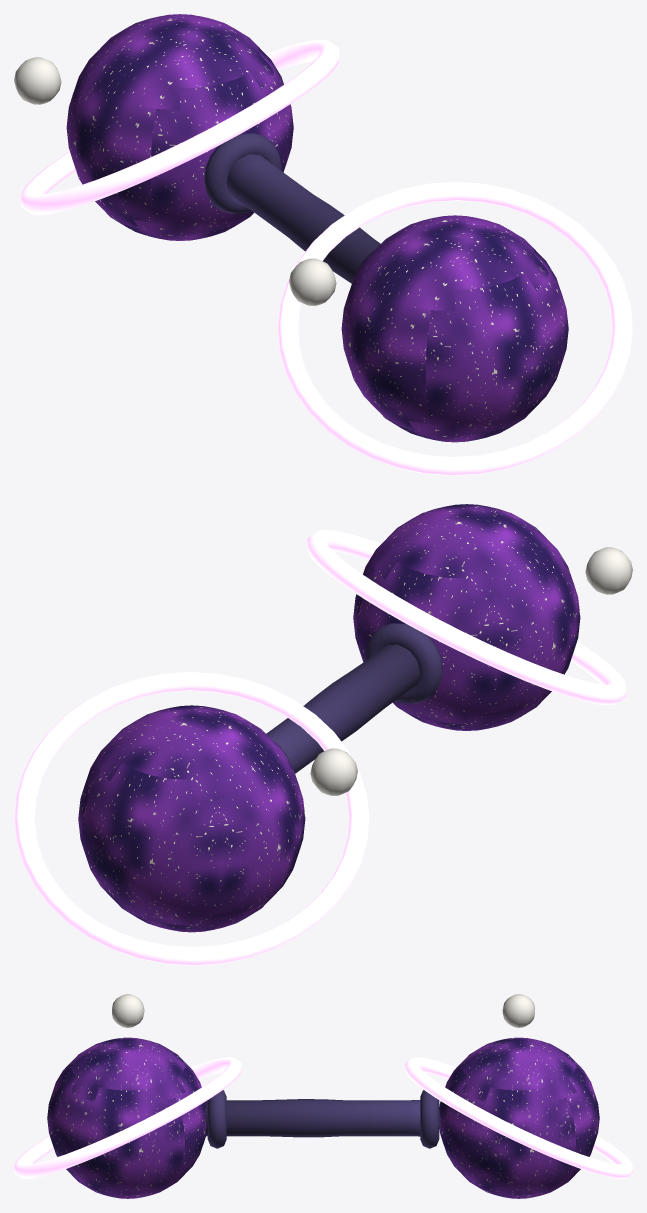
File: GalaxyDumbbell.glb
3 renders of one model, top to bottom at view 1: azimuth 30°, elevation 25°; view 2: azimuth 150°, elevation 25°; view 3: azimuth 270°, elevation 25°, orthographic. The views are drawn at different scales.
Visible parts, largest first — view 1: GalaxyDumbbell, GalaxyDumbbell_Glow; view 2: GalaxyDumbbell, GalaxyDumbbell_Glow; view 3: GalaxyDumbbell, GalaxyDumbbell_Glow.
Part boxes in pixels (left/top/right/bottom): GalaxyDumbbell: left=14, top=14, right=568, bottom=442; GalaxyDumbbell_Glow: left=20, top=39, right=632, bottom=475; GalaxyDumbbell: left=78, top=504, right=632, bottom=932; GalaxyDumbbell_Glow: left=14, top=529, right=626, bottom=965; GalaxyDumbbell: left=47, top=994, right=599, bottom=1198; GalaxyDumbbell_Glow: left=14, top=1057, right=632, bottom=1179.
Size of the model in its own units: 1.2 by 0.76 by 2.91.
2 materials, 1 textured.
